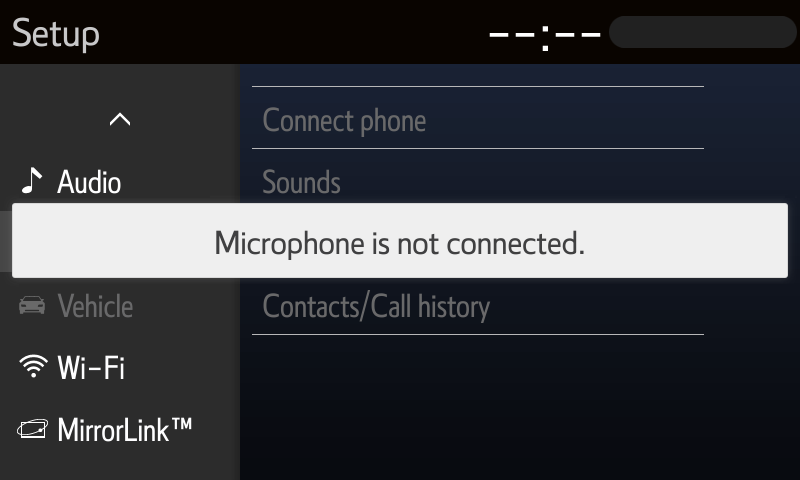touchPart: (15, 410, 209, 451), (21, 344, 130, 387), (21, 163, 138, 199), (99, 107, 139, 131)
untouchPart: (249, 81, 706, 153), (249, 275, 709, 341), (248, 143, 706, 209), (483, 13, 796, 54), (8, 9, 104, 58), (18, 290, 146, 325)
